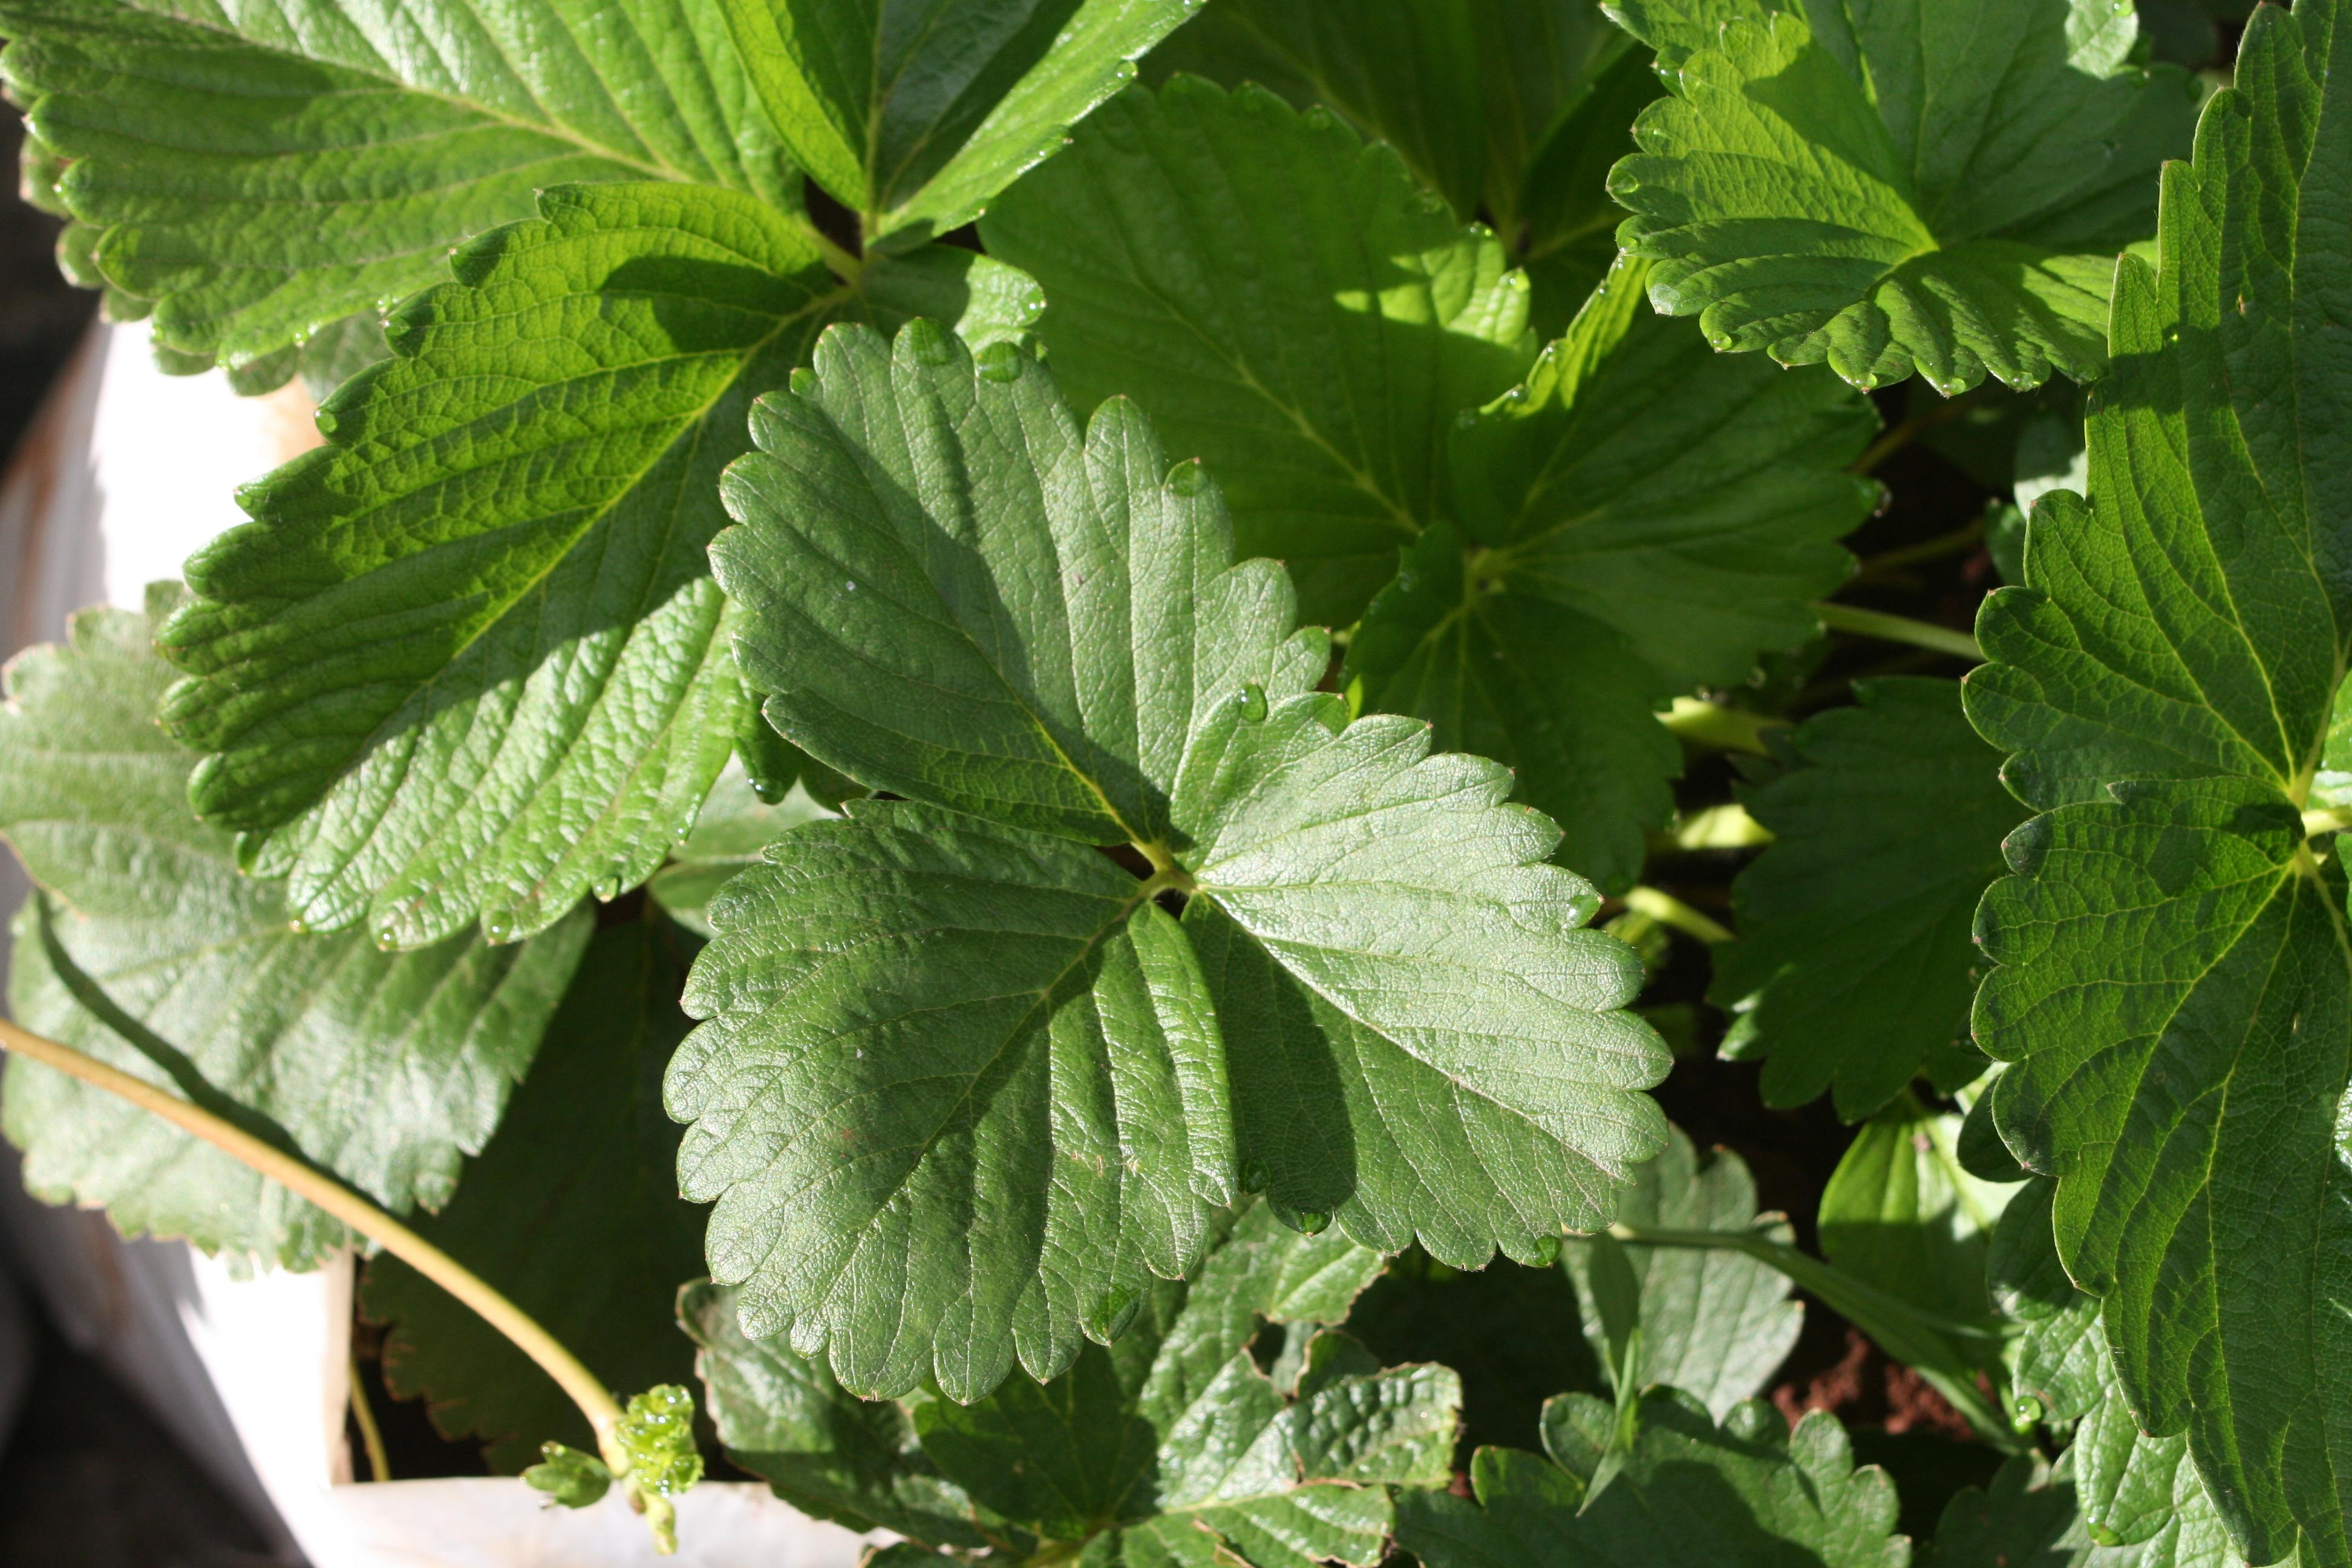Strawberry leaf: (703, 301, 1339, 906), (196, 308, 814, 915), (702, 787, 1263, 1417), (1118, 735, 1699, 1292), (5, 0, 931, 269)
